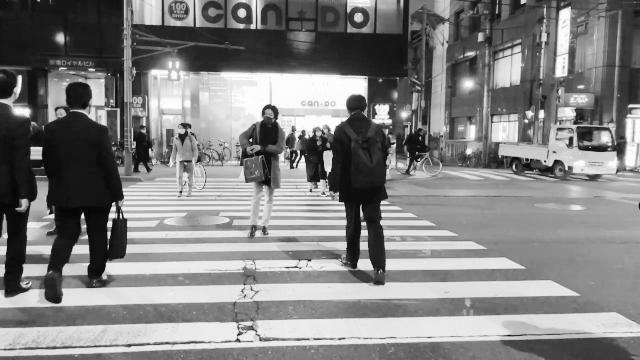berjalan: (38, 79, 134, 307), (328, 90, 392, 288), (238, 97, 290, 237), (168, 124, 202, 198)
